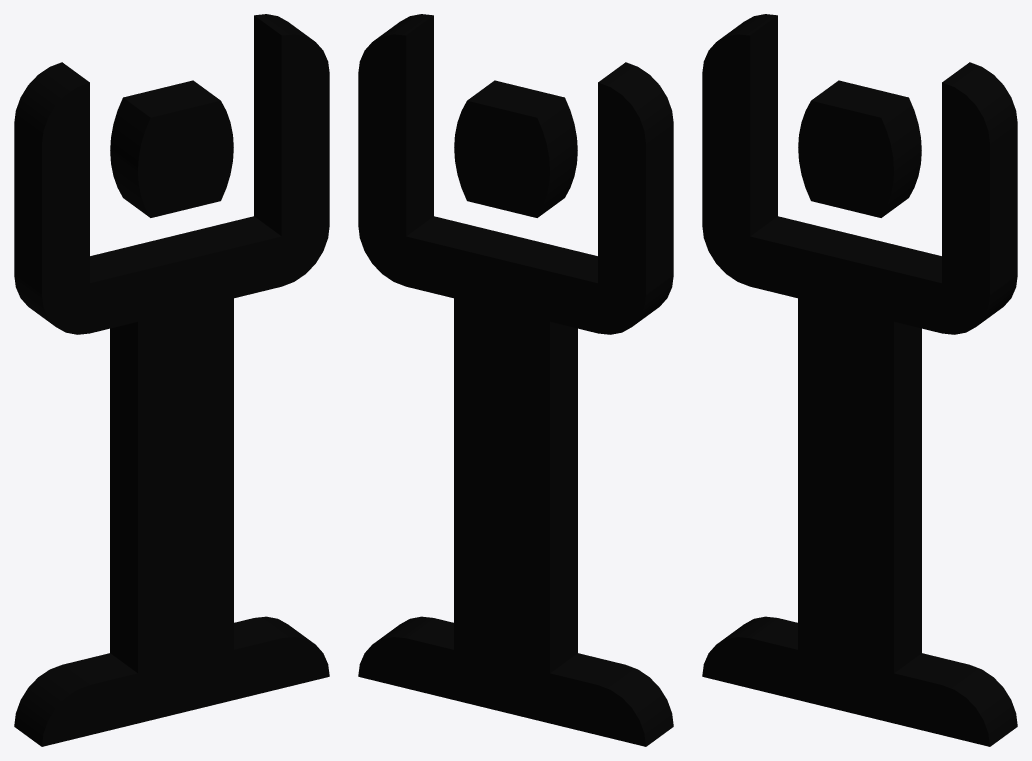
The model's file is Tower.fbx.
The picture shows the model from 3 angles, left to right: view 1: azimuth 30°, elevation 25°; view 2: azimuth 150°, elevation 25°; view 3: azimuth 330°, elevation 25°; orthographic projection.
Visible parts, largest first — view 1: generated; view 2: generated; view 3: generated.
Boxes of the visible parts, x1,y1,x2,y2 form: generated: (14,14,329,746); generated: (358,14,673,746); generated: (702,14,1017,746).
Bounding box in the file's own units: 60 × 130 × 10.
